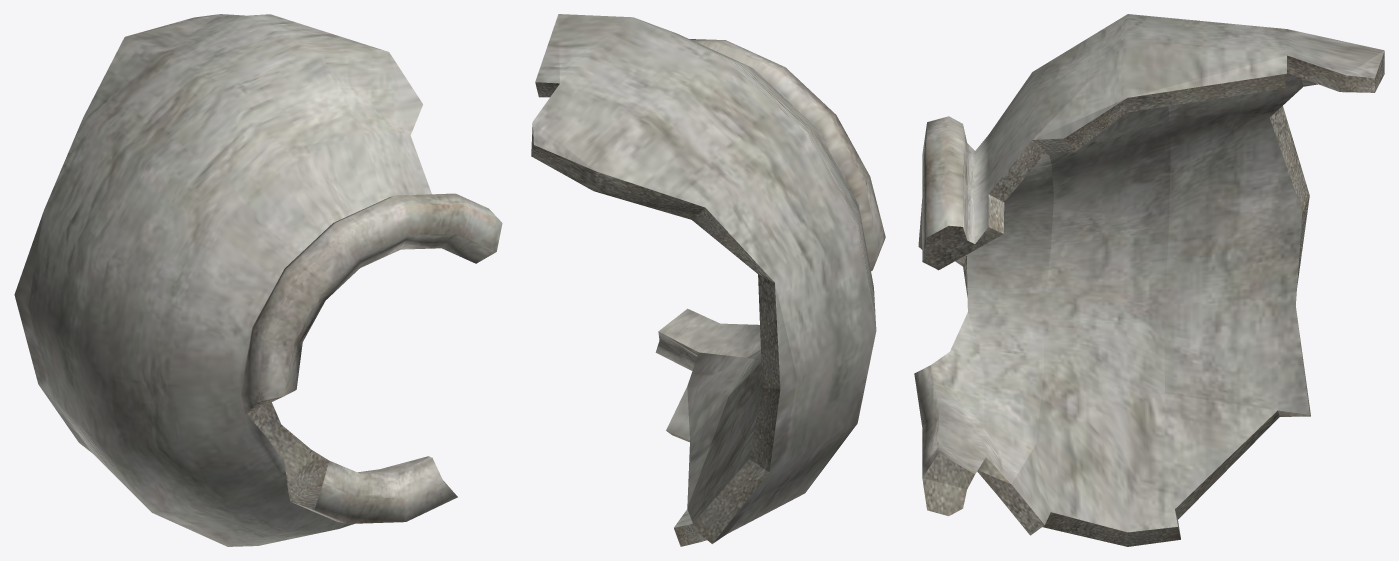
Rendered from egypt_prop_vase_br1_interior.glb.
The picture shows the model from 3 angles, left to right: view 1: azimuth 30°, elevation 25°; view 2: azimuth 150°, elevation 25°; view 3: azimuth 270°, elevation 25°; orthographic projection. The views are drawn at different scales.
Size of the model in its own units: 28.98 by 39.98 by 31.7.
1 material, 1 textured.
